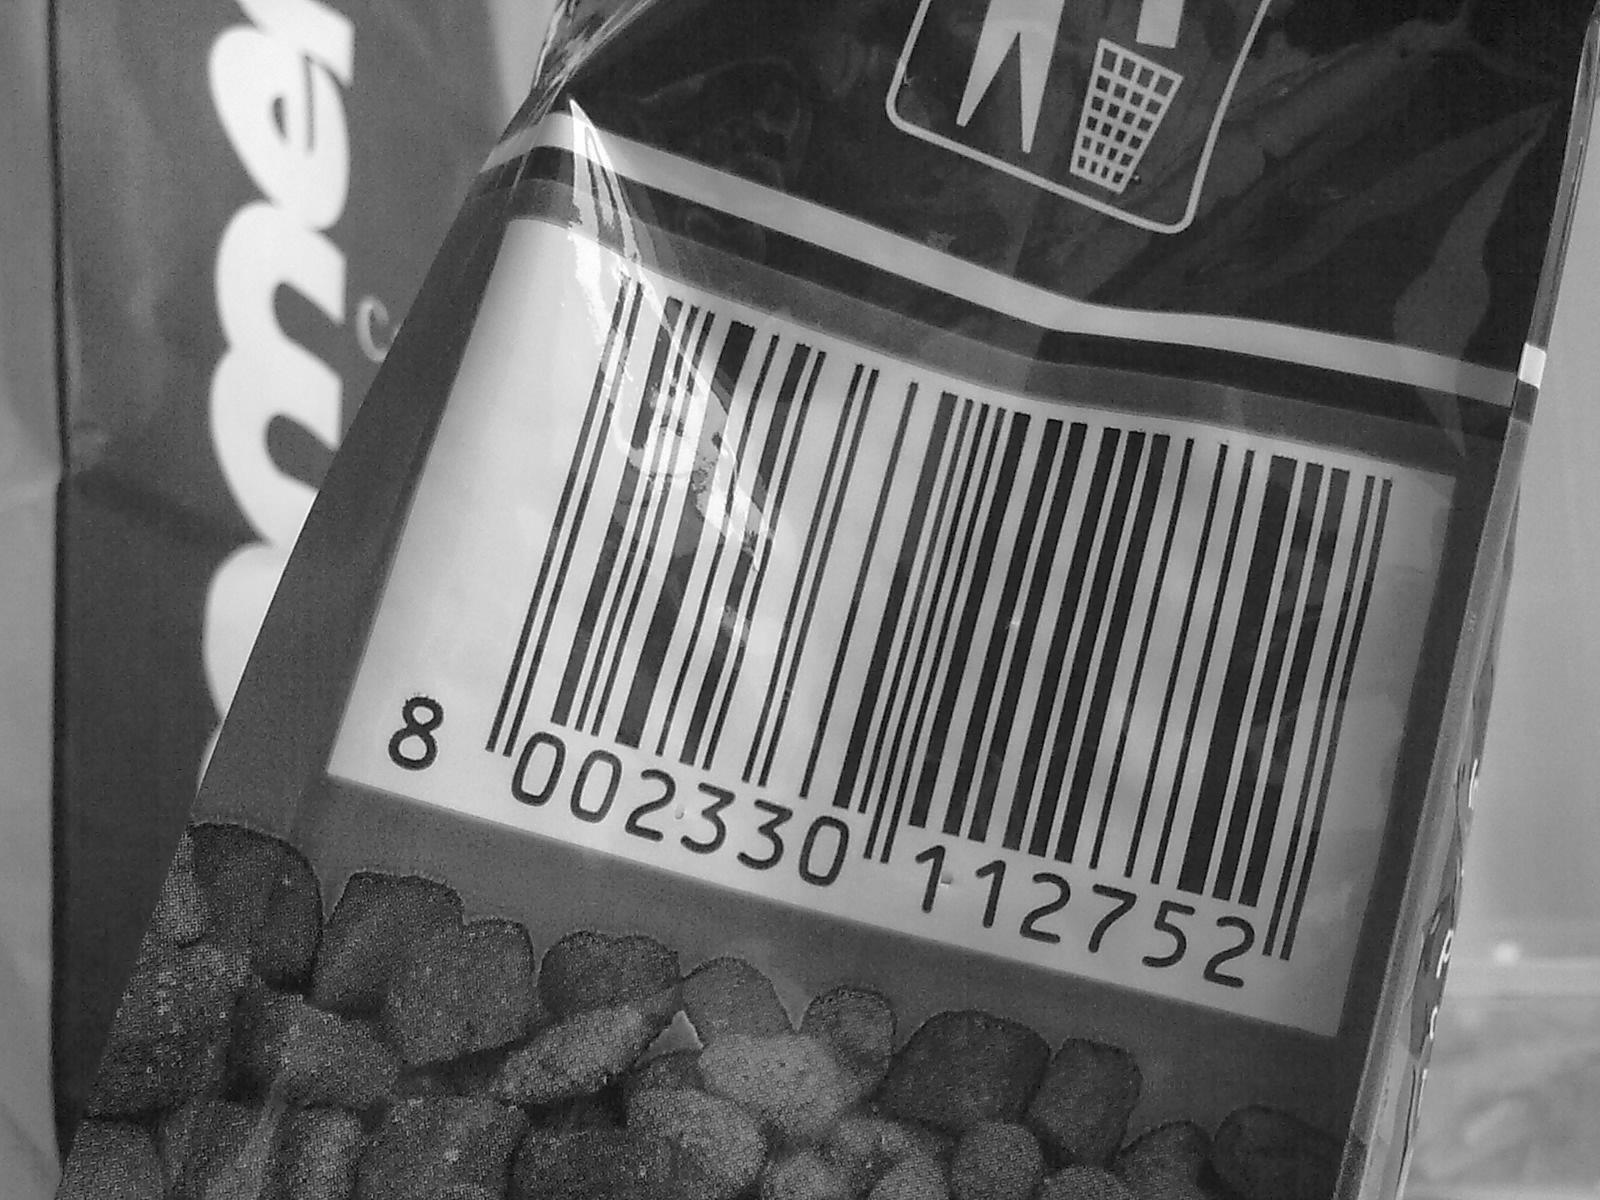Barcode: (525, 239, 1358, 922)
